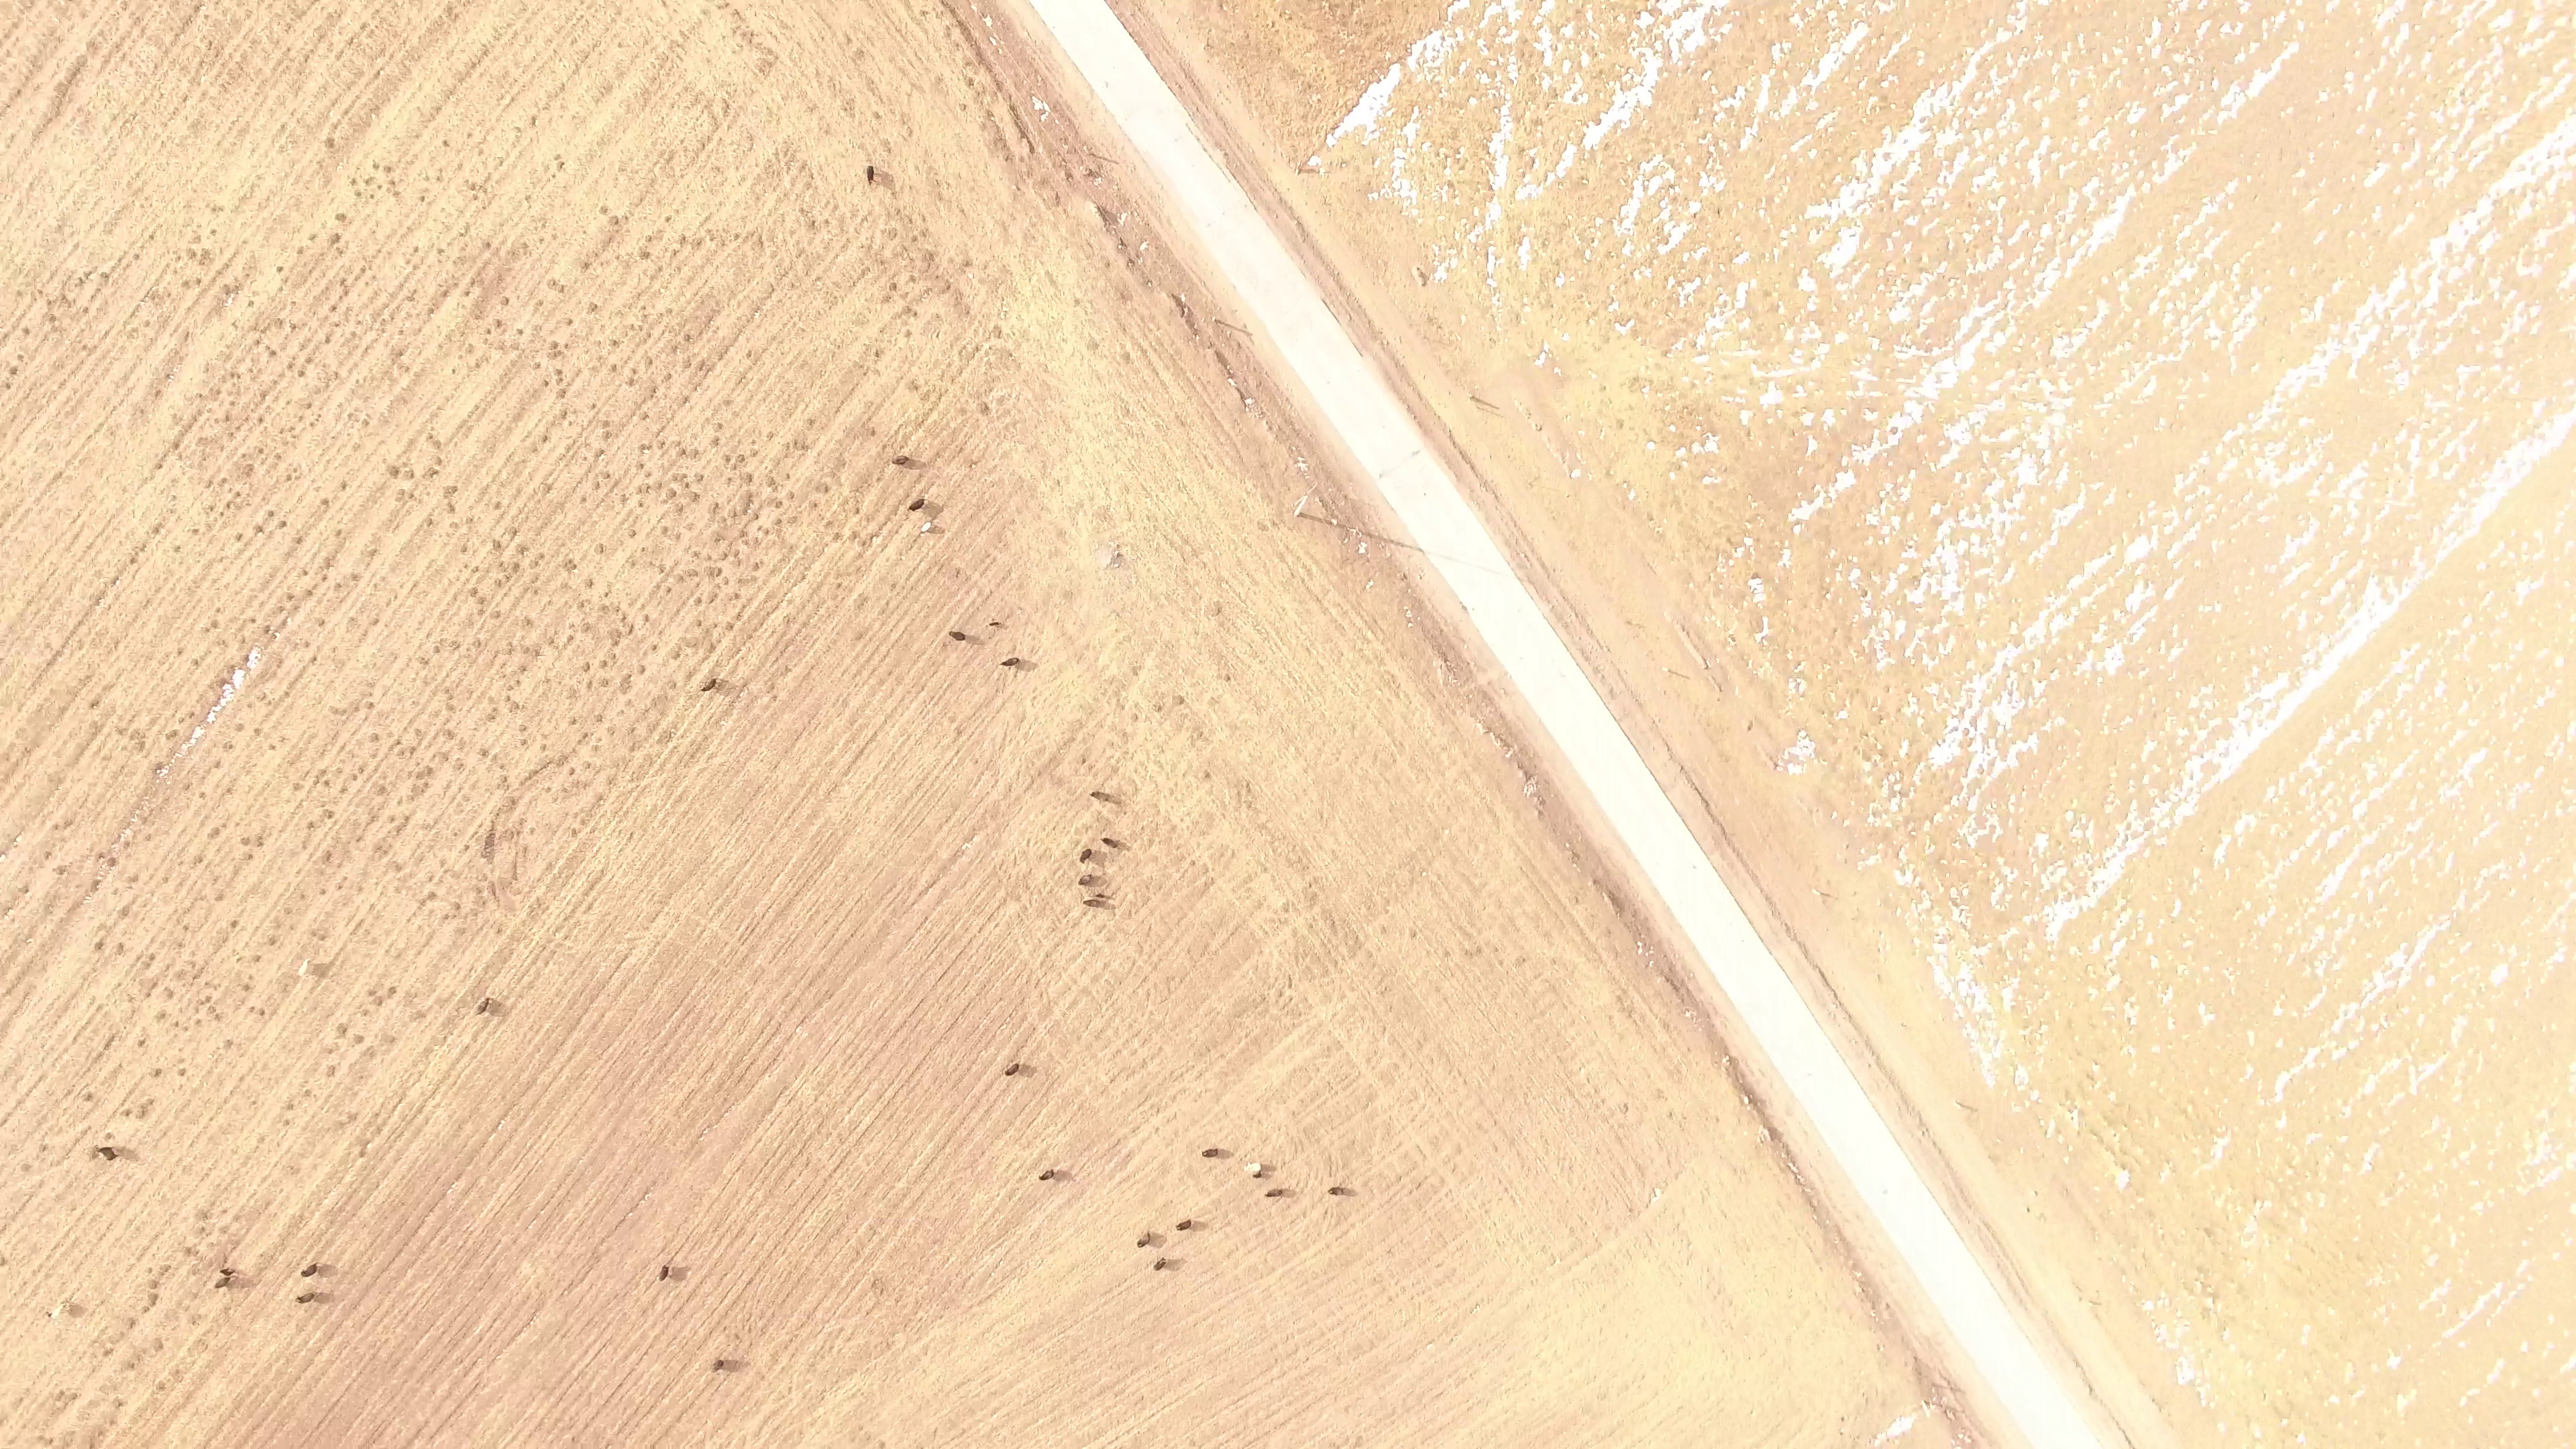sheep: (94, 1144, 121, 1162), (298, 1260, 323, 1279), (46, 1301, 67, 1321), (1150, 1255, 1171, 1274), (1134, 1230, 1155, 1250), (1002, 1061, 1023, 1079), (474, 995, 492, 1017), (1099, 835, 1123, 851), (1088, 788, 1112, 804), (1036, 1167, 1058, 1184), (294, 957, 312, 979), (294, 1289, 317, 1306), (1263, 1186, 1286, 1201), (1077, 845, 1095, 865), (1173, 1219, 1194, 1234), (1199, 1146, 1222, 1163), (699, 676, 720, 692), (946, 628, 967, 644), (906, 497, 928, 513), (1080, 898, 1102, 912), (889, 453, 912, 467), (863, 162, 878, 185), (1077, 872, 1096, 888), (1327, 1185, 1348, 1199), (999, 654, 1020, 669), (710, 1356, 726, 1375), (656, 1263, 671, 1283), (1243, 1160, 1264, 1174), (213, 1277, 233, 1290), (218, 1267, 238, 1277), (1094, 890, 1108, 902), (1251, 1171, 1265, 1181)
unknown: (1662, 961, 1695, 1000), (1603, 884, 1629, 920), (1421, 28, 1445, 62), (1177, 306, 1201, 338), (1405, 38, 1426, 72), (1788, 498, 1816, 523), (955, 17, 977, 45), (227, 662, 247, 692), (1097, 204, 1120, 226), (1445, 1, 1471, 20), (310, 961, 333, 981), (1833, 472, 1858, 492), (64, 64, 83, 88), (1515, 763, 1537, 784), (1942, 1403, 1962, 1424), (1213, 348, 1231, 371), (65, 1301, 86, 1320), (1776, 546, 1793, 568), (919, 519, 939, 537), (1799, 1187, 1816, 1210), (1361, 529, 1385, 543), (241, 647, 260, 665), (1746, 570, 1764, 590), (482, 829, 498, 851), (740, 496, 755, 517), (877, 169, 894, 192), (973, 43, 988, 64), (327, 231, 344, 248), (1714, 1038, 1731, 1058), (1811, 492, 1826, 511), (1169, 292, 1186, 311), (87, 877, 103, 895), (216, 675, 231, 691), (150, 521, 166, 537), (1294, 219, 1309, 237), (1720, 95, 1735, 111), (1417, 270, 1431, 288), (1912, 1362, 1925, 1384), (523, 767, 540, 784), (218, 692, 233, 708), (387, 464, 402, 480), (1446, 432, 1459, 449), (332, 210, 350, 225), (324, 135, 337, 152), (1296, 510, 1317, 523), (1925, 1379, 1939, 1396), (147, 1291, 162, 1308), (148, 1277, 162, 1293), (102, 1034, 117, 1051), (91, 938, 107, 953), (105, 854, 119, 870), (260, 622, 274, 637), (1846, 567, 1860, 583), (1703, 439, 1720, 453), (1396, 392, 1409, 407), (98, 270, 113, 282), (1085, 166, 1099, 182), (1324, 133, 1338, 148), (1016, 125, 1030, 142), (59, 83, 72, 99), (947, 5, 961, 21), (1782, 1141, 1794, 1159), (322, 848, 335, 865), (1700, 797, 1712, 813), (1438, 648, 1451, 665), (221, 281, 233, 299), (176, 1066, 189, 1079), (1786, 763, 1799, 776), (153, 759, 167, 773), (366, 546, 380, 560), (137, 541, 150, 555), (1741, 535, 1756, 548), (252, 523, 266, 536), (1224, 368, 1238, 382), (551, 347, 564, 360), (439, 286, 452, 301), (254, 833, 266, 849), (423, 765, 436, 780), (191, 725, 204, 741), (1175, 692, 1187, 708), (510, 559, 523, 575), (243, 464, 256, 480), (1468, 393, 1484, 406), (1026, 141, 1038, 157), (444, 3, 456, 19), (323, 554, 333, 571), (1805, 437, 1816, 454), (152, 1340, 166, 1354), (1859, 1278, 1873, 1289), (21, 1161, 33, 1175), (284, 1101, 297, 1113), (84, 1090, 96, 1104), (152, 1065, 165, 1080), (386, 983, 398, 998), (119, 906, 130, 920), (425, 890, 439, 902), (15, 885, 30, 897), (1570, 849, 1583, 861), (240, 835, 253, 849), (1718, 825, 1730, 839), (211, 825, 223, 839), (206, 710, 217, 723), (284, 590, 297, 603), (303, 587, 316, 599), (276, 518, 290, 531), (1322, 517, 1336, 529), (319, 496, 332, 508), (338, 480, 350, 493), (50, 471, 64, 484), (169, 439, 182, 453), (1236, 389, 1248, 402), (20, 325, 33, 337), (926, 250, 937, 264), (468, 180, 479, 194), (1032, 99, 1044, 113), (993, 79, 1004, 93), (1133, 38, 1147, 50), (1789, 11, 1802, 25), (1757, 95, 1768, 109), (68, 1390, 80, 1403), (101, 1347, 113, 1359), (182, 1245, 194, 1258), (356, 1148, 368, 1160), (136, 1037, 148, 1050), (156, 1010, 168, 1022), (256, 1006, 268, 1019), (165, 988, 176, 1002), (241, 982, 252, 994), (268, 936, 279, 948), (1782, 924, 1794, 936), (227, 918, 241, 931), (451, 900, 464, 913), (1590, 875, 1603, 888), (1964, 833, 1976, 845), (305, 819, 317, 831), (1536, 796, 1549, 808), (378, 784, 388, 797), (1201, 769, 1214, 782), (1501, 738, 1513, 751), (87, 698, 99, 712), (987, 618, 1000, 631), (1335, 521, 1348, 532), (265, 508, 277, 520), (448, 483, 461, 496), (152, 460, 165, 472), (1458, 451, 1470, 464), (1414, 417, 1427, 431), (600, 417, 612, 431), (1404, 403, 1417, 417), (980, 403, 992, 416), (152, 387, 164, 399), (295, 368, 307, 380), (553, 366, 566, 379), (7, 364, 20, 378), (266, 347, 279, 359), (494, 318, 505, 330), (425, 305, 437, 317), (179, 278, 192, 290), (581, 259, 592, 271), (640, 249, 653, 262), (294, 246, 306, 258), (1137, 240, 1149, 253), (1621, 218, 1632, 231), (1087, 201, 1098, 215), (1498, 105, 1510, 116), (1734, 85, 1746, 97), (1131, 28, 1144, 41), (191, 3, 203, 15), (1901, 1416, 1913, 1430), (124, 1360, 138, 1372), (1629, 907, 1641, 921), (213, 893, 226, 904), (1515, 744, 1527, 757), (407, 744, 418, 757), (137, 739, 148, 751), (626, 376, 637, 388), (550, 339, 561, 352), (322, 333, 333, 346), (588, 301, 600, 315), (889, 280, 900, 294), (1062, 169, 1075, 181), (383, 163, 394, 176), (1489, 141, 1501, 152), (1823, 53, 1833, 66), (529, 114, 539, 129), (56, 1388, 67, 1399), (1849, 1260, 1860, 1273), (200, 1209, 211, 1221), (1810, 1203, 1820, 1216), (123, 1107, 134, 1118), (302, 1087, 313, 1099), (223, 1038, 235, 1050), (356, 1033, 366, 1045), (339, 1024, 350, 1036), (1690, 1000, 1702, 1012), (375, 996, 386, 1009), (202, 994, 213, 1006), (366, 988, 378, 999), (1817, 968, 1828, 981), (115, 941, 126, 953), (128, 875, 140, 885), (56, 865, 66, 878), (245, 851, 256, 862), (325, 808, 337, 822), (508, 796, 519, 808), (321, 777, 332, 789), (414, 769, 427, 781), (479, 747, 490, 759), (445, 728, 455, 739), (252, 725, 263, 736), (366, 699, 377, 711), (1434, 641, 1445, 653), (208, 619, 221, 631), (370, 616, 381, 628), (1760, 615, 1770, 627), (1214, 603, 1225, 616), (91, 597, 103, 608), (333, 581, 344, 591), (349, 572, 361, 582), (300, 568, 311, 578), (714, 565, 724, 577), (568, 562, 580, 573), (531, 558, 541, 569), (127, 554, 139, 567), (517, 545, 527, 557), (293, 535, 305, 547), (233, 533, 244, 544), (849, 529, 860, 542), (333, 527, 345, 539), (189, 526, 201, 537), (1868, 515, 1880, 527), (447, 502, 458, 515), (223, 498, 234, 511), (579, 494, 590, 505), (667, 488, 680, 500), (821, 484, 831, 496), (545, 482, 555, 494), (219, 475, 230, 486), (1467, 462, 1478, 474), (434, 455, 445, 468), (1420, 426, 1432, 438), (714, 421, 725, 433), (256, 415, 266, 426), (222, 413, 233, 425), (303, 355, 315, 366), (393, 349, 406, 360), (515, 326, 526, 337), (46, 315, 58, 325), (943, 282, 954, 293), (193, 276, 204, 288), (76, 276, 87, 288), (274, 264, 286, 275), (962, 258, 973, 270), (1126, 256, 1138, 267), (482, 239, 494, 252), (611, 217, 623, 229), (417, 193, 428, 204), (387, 178, 398, 189), (1737, 138, 1748, 150), (440, 138, 451, 150), (52, 107, 64, 119), (1006, 103, 1018, 114), (55, 80, 67, 90), (764, 59, 775, 70), (1142, 50, 1153, 62), (1443, 35, 1454, 48), (983, 18, 994, 30), (1, 1254, 9, 1269), (87, 1439, 98, 1449), (95, 1428, 106, 1438), (115, 1399, 125, 1409), (1922, 1398, 1933, 1408), (1948, 1385, 1959, 1395), (1911, 1354, 1921, 1365), (733, 1332, 743, 1342), (128, 1317, 138, 1328), (141, 1304, 152, 1315), (869, 1279, 879, 1290), (162, 1264, 172, 1275), (198, 1224, 208, 1235), (1794, 1179, 1804, 1189), (103, 1131, 114, 1142), (337, 1120, 347, 1130), (138, 1107, 149, 1118), (146, 1097, 156, 1108), (1705, 1030, 1715, 1040), (1285, 980, 1295, 991), (147, 953, 158, 963), (175, 940, 185, 950), (316, 933, 327, 944), (180, 922, 191, 932), (489, 888, 499, 898), (510, 868, 520, 880), (392, 863, 402, 873), (195, 855, 205, 865), (95, 850, 106, 861), (140, 814, 150, 825), (1709, 814, 1719, 824), (1535, 808, 1547, 819), (1888, 799, 1898, 810), (223, 785, 234, 796), (421, 780, 431, 790), (350, 772, 360, 783), (317, 767, 328, 778), (1079, 755, 1089, 765), (170, 729, 180, 739), (89, 729, 100, 739), (115, 727, 126, 738), (1155, 704, 1165, 714), (445, 702, 456, 713), (282, 688, 292, 699), (1223, 673, 1234, 684), (83, 672, 93, 682), (519, 663, 529, 674), (248, 661, 258, 671), (1030, 660, 1040, 671), (421, 658, 431, 668), (1582, 653, 1592, 663), (532, 649, 543, 659), (53, 648, 64, 658), (523, 645, 533, 655), (1444, 639, 1454, 650), (278, 619, 289, 629), (248, 616, 259, 626), (642, 613, 652, 624), (276, 604, 286, 614), (694, 596, 704, 606), (1754, 592, 1764, 603), (470, 585, 481, 596), (706, 568, 717, 579), (1726, 557, 1737, 568), (1114, 550, 1124, 561), (1356, 544, 1368, 556), (460, 543, 470, 554), (493, 542, 504, 552), (859, 538, 869, 549), (510, 528, 520, 539), (773, 517, 784, 527), (853, 505, 863, 517), (492, 501, 502, 512), (745, 472, 755, 482), (284, 472, 294, 484), (407, 470, 417, 482), (427, 470, 437, 480), (1444, 459, 1455, 470), (678, 447, 689, 458), (597, 447, 607, 458), (256, 446, 266, 456), (798, 441, 808, 451), (791, 437, 801, 447), (1411, 413, 1421, 423), (304, 400, 315, 411), (557, 391, 568, 401), (648, 386, 659, 396), (3, 380, 13, 392), (541, 378, 551, 389), (163, 371, 173, 382), (227, 370, 237, 380), (696, 364, 706, 374), (608, 364, 620, 375), (682, 362, 692, 372), (472, 361, 483, 371), (284, 360, 296, 372), (15, 352, 25, 363), (744, 350, 754, 360), (872, 350, 883, 360), (252, 337, 263, 348), (683, 335, 693, 345), (484, 327, 494, 337), (288, 322, 299, 333), (564, 317, 576, 328), (904, 306, 914, 317), (80, 305, 91, 317), (328, 303, 339, 314), (44, 297, 55, 309), (1072, 297, 1083, 307), (1118, 292, 1128, 303), (462, 288, 472, 299), (1336, 282, 1346, 293), (232, 282, 242, 293), (468, 278, 478, 288), (81, 270, 93, 280), (358, 265, 368, 276), (411, 245, 421, 256), (1118, 239, 1128, 250), (693, 239, 704, 250), (910, 233, 920, 244), (600, 206, 610, 216), (367, 191, 377, 201), (354, 189, 364, 200), (1485, 182, 1495, 193), (349, 176, 359, 187), (1495, 164, 1505, 176), (370, 162, 380, 172), (1307, 156, 1318, 166), (514, 125, 524, 136), (1531, 117, 1541, 128), (44, 115, 55, 126), (872, 111, 883, 122), (372, 103, 382, 113), (1468, 97, 1479, 107), (55, 97, 66, 109), (14, 87, 24, 97), (1432, 58, 1444, 69), (1876, 57, 1887, 68), (1437, 45, 1447, 55), (1848, 30, 1859, 41), (9, 20, 20, 30), (507, 828, 517, 841), (638, 663, 648, 676), (1909, 573, 1921, 583), (1123, 352, 1133, 364), (1444, 180, 1456, 190), (965, 75, 975, 86), (1843, 40, 1853, 52), (877, 1440, 888, 1449), (157, 1269, 167, 1279), (282, 1118, 292, 1128), (346, 1112, 356, 1124), (95, 1051, 105, 1061), (1831, 991, 1841, 1001), (252, 955, 262, 965), (441, 912, 451, 922), (44, 849, 54, 859), (2, 771, 12, 781), (371, 733, 381, 743), (488, 712, 498, 722), (352, 704, 362, 714), (600, 657, 610, 667), (310, 654, 320, 664), (673, 651, 683, 661), (433, 646, 443, 656), (707, 642, 717, 653), (612, 638, 622, 649), (626, 627, 636, 637), (203, 625, 213, 635), (291, 602, 301, 612), (732, 590, 742, 602), (110, 574, 120, 584), (171, 545, 181, 555), (1735, 544, 1746, 554), (831, 533, 841, 543), (629, 529, 639, 539), (660, 527, 670, 537), (1793, 522, 1803, 532), (407, 490, 417, 500), (233, 489, 243, 500), (682, 480, 692, 490), (723, 455, 733, 465), (868, 427, 878, 439), (185, 421, 195, 431), (307, 419, 317, 429), (190, 413, 200, 423), (137, 407, 147, 417), (1389, 382, 1399, 392), (341, 288, 351, 299), (337, 277, 347, 288), (435, 246, 445, 257), (679, 233, 689, 244), (146, 232, 156, 242), (1877, 205, 1887, 215), (470, 193, 480, 203), (391, 189, 402, 199), (362, 176, 372, 187), (1306, 166, 1317, 176), (1295, 166, 1306, 176), (557, 159, 567, 169), (1224, 158, 1234, 168), (553, 152, 563, 162), (1221, 150, 1231, 160), (1602, 141, 1612, 151), (1041, 102, 1051, 112), (722, 102, 733, 112), (844, 35, 854, 45), (1110, 2, 1120, 12), (247, 1004, 257, 1014), (143, 990, 153, 1000), (596, 794, 606, 804), (569, 718, 579, 728), (187, 709, 197, 719), (1342, 527, 1352, 537), (207, 504, 217, 514), (679, 472, 689, 482), (274, 452, 284, 462), (213, 387, 223, 397), (79, 343, 89, 353), (557, 286, 567, 296), (732, 231, 742, 241), (1528, 155, 1538, 165), (1012, 111, 1022, 121), (1652, 1, 1662, 5), (1, 1417, 5, 1427)
